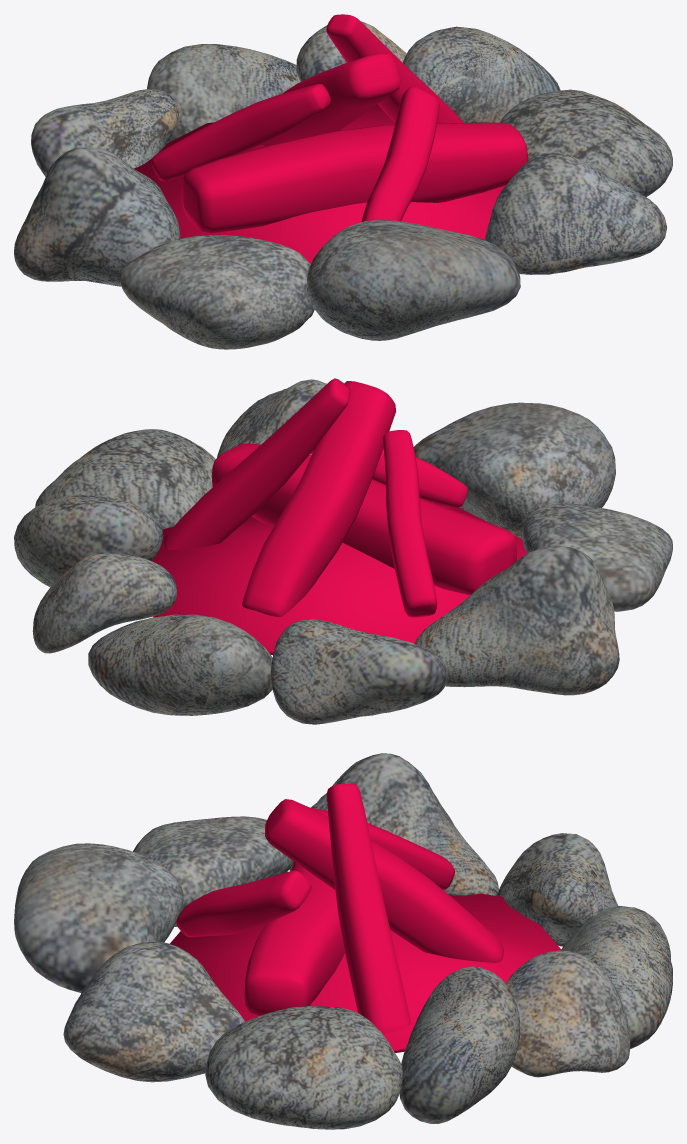
Rendered from campfire1.fbx.
The picture shows the model from 3 angles, top to bottom: view 1: azimuth 30°, elevation 25°; view 2: azimuth 150°, elevation 25°; view 3: azimuth 270°, elevation 25°; orthographic projection.
Visible parts, largest first — view 1: nashshiri; view 2: nashshiri; view 3: nashshiri.
Boxes of the visible parts, x1,y1,x2,y2 form: nashshiri: (14,14,672,349); nashshiri: (14,378,672,724); nashshiri: (14,753,672,1129).
Size of the model in its own units: 190 by 71.82 by 179.
